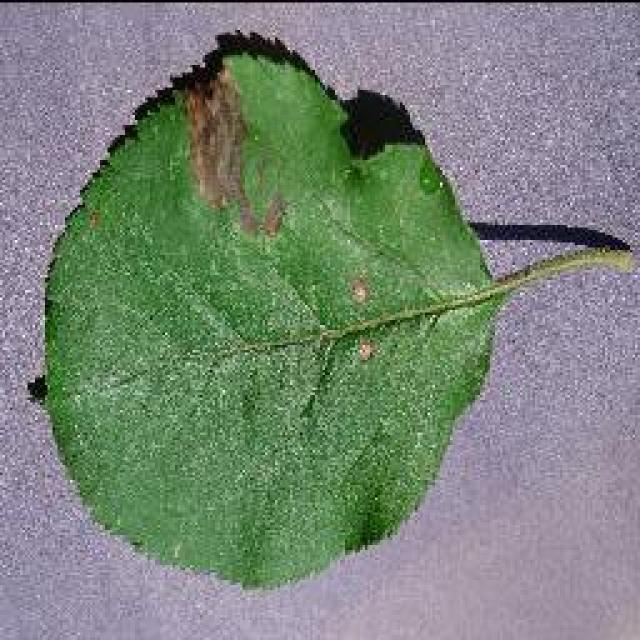apple black rot: (25, 28, 635, 592)
